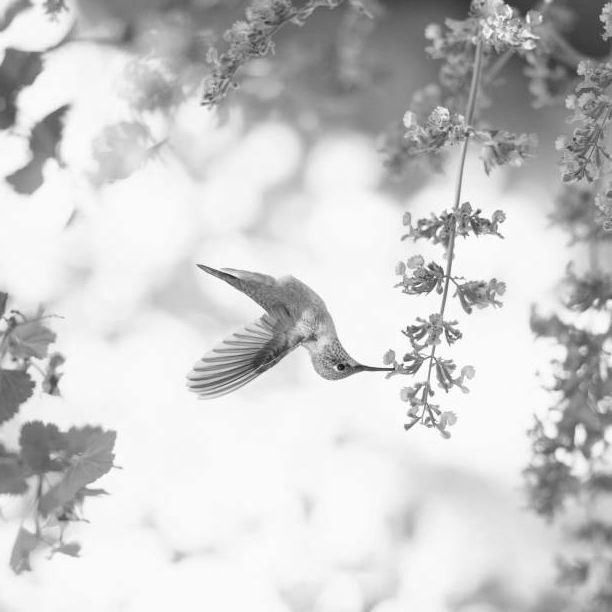Bird: (183, 256, 395, 401)
